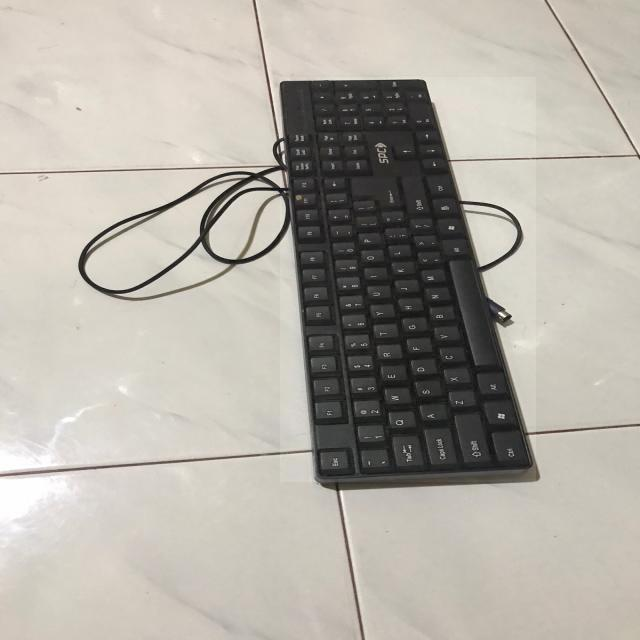-mouse-: (281, 77, 536, 482)
